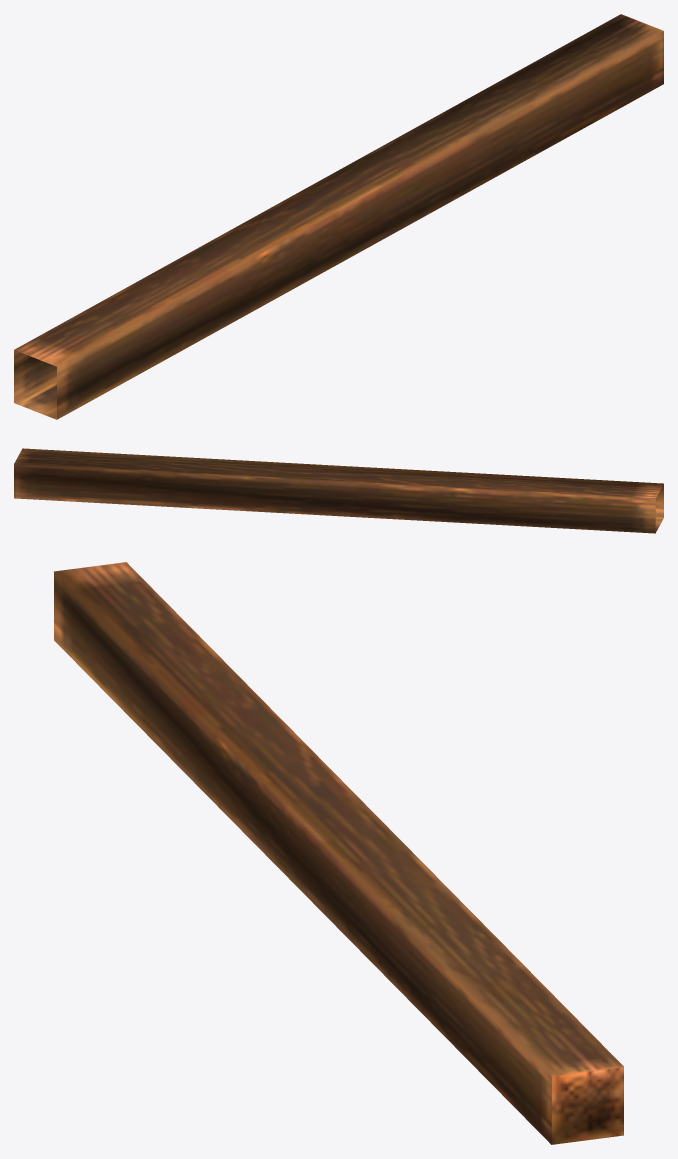
Rendered from SWORDLIGHT20_JAILBRACE85.fbx.
3 views of the same model, one above another, from view 1: azimuth 30°, elevation 25°; view 2: azimuth 150°, elevation 25°; view 3: azimuth 270°, elevation 25° (orthographic). The views are drawn at different scales.
Parts seen in each view (by area): view 1: SWORDLIGHT20_JAILBRACE85; view 2: SWORDLIGHT20_JAILBRACE85; view 3: SWORDLIGHT20_JAILBRACE85.
Boxes of the visible parts, <box> form: SWORDLIGHT20_JAILBRACE85: <box>14,14,663,419</box>; SWORDLIGHT20_JAILBRACE85: <box>14,448,663,533</box>; SWORDLIGHT20_JAILBRACE85: <box>54,562,623,1144</box>.
Size of the model in its own units: 64130 by 4000 by 30059.
Materials: 1 (1 with a texture image).
